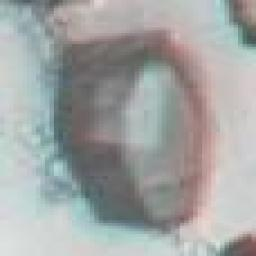crystals: (48, 30, 218, 236)
